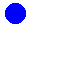circle: (5, 3, 25, 23)
